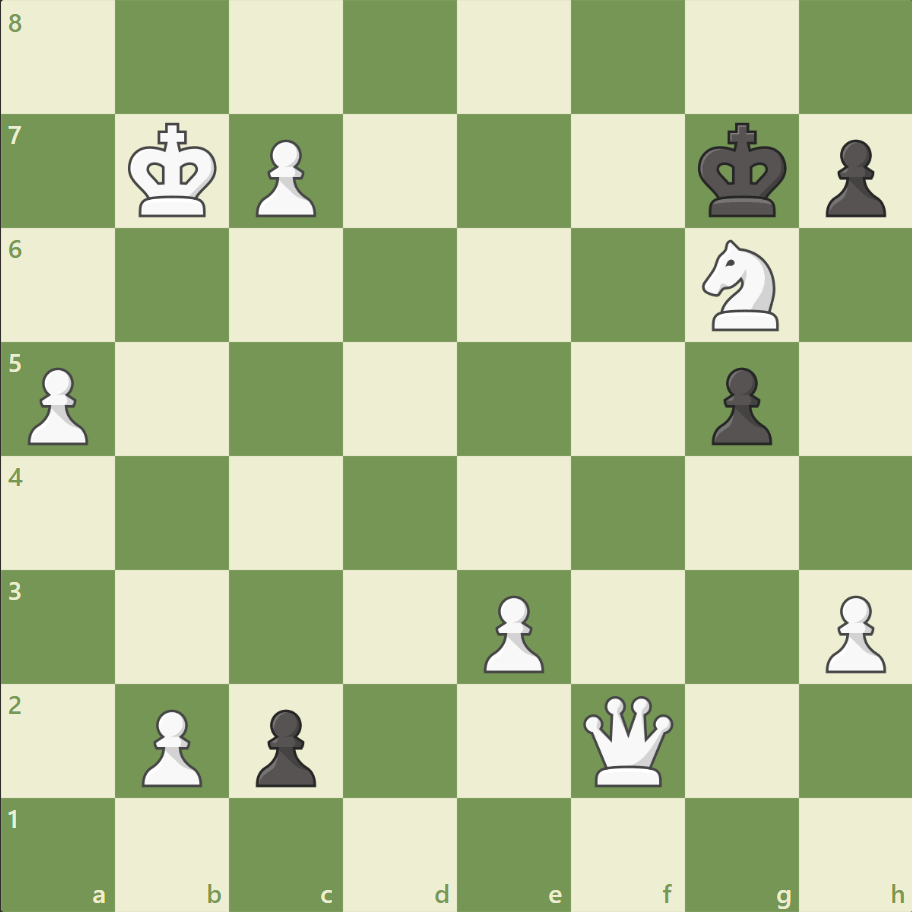K: (124, 117, 224, 225)
N: (692, 234, 789, 337)
P: (247, 132, 322, 223), (20, 359, 95, 450), (474, 586, 549, 677), (133, 700, 208, 791), (815, 586, 889, 677)
Q: (578, 690, 677, 789)
k: (692, 117, 792, 225)
p: (701, 359, 776, 450), (247, 700, 322, 791), (815, 132, 889, 223)
